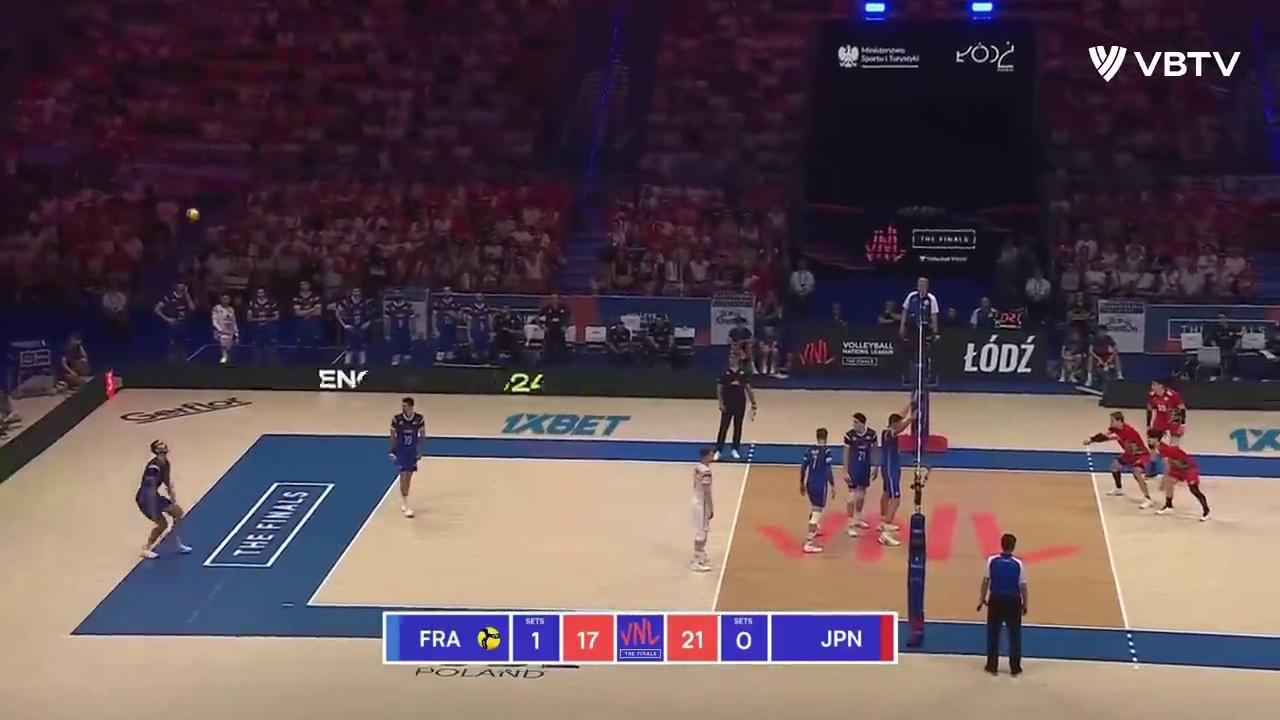ball: (187, 209, 199, 221)
